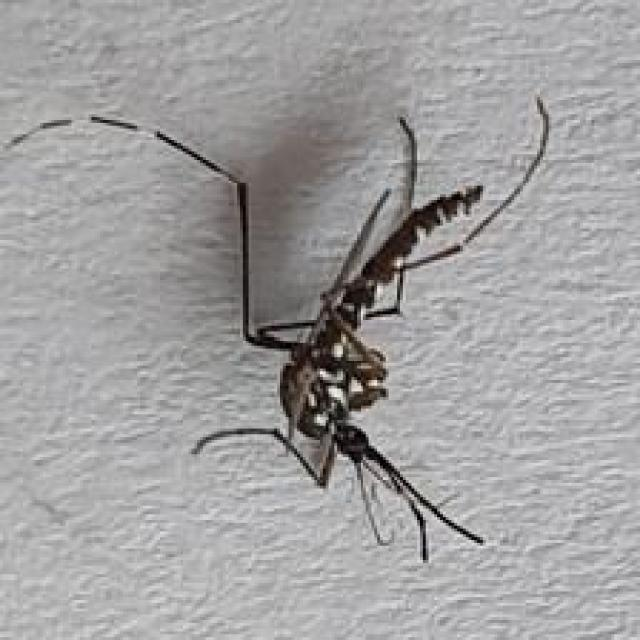Aedes albopictus: (1, 93, 553, 564)
